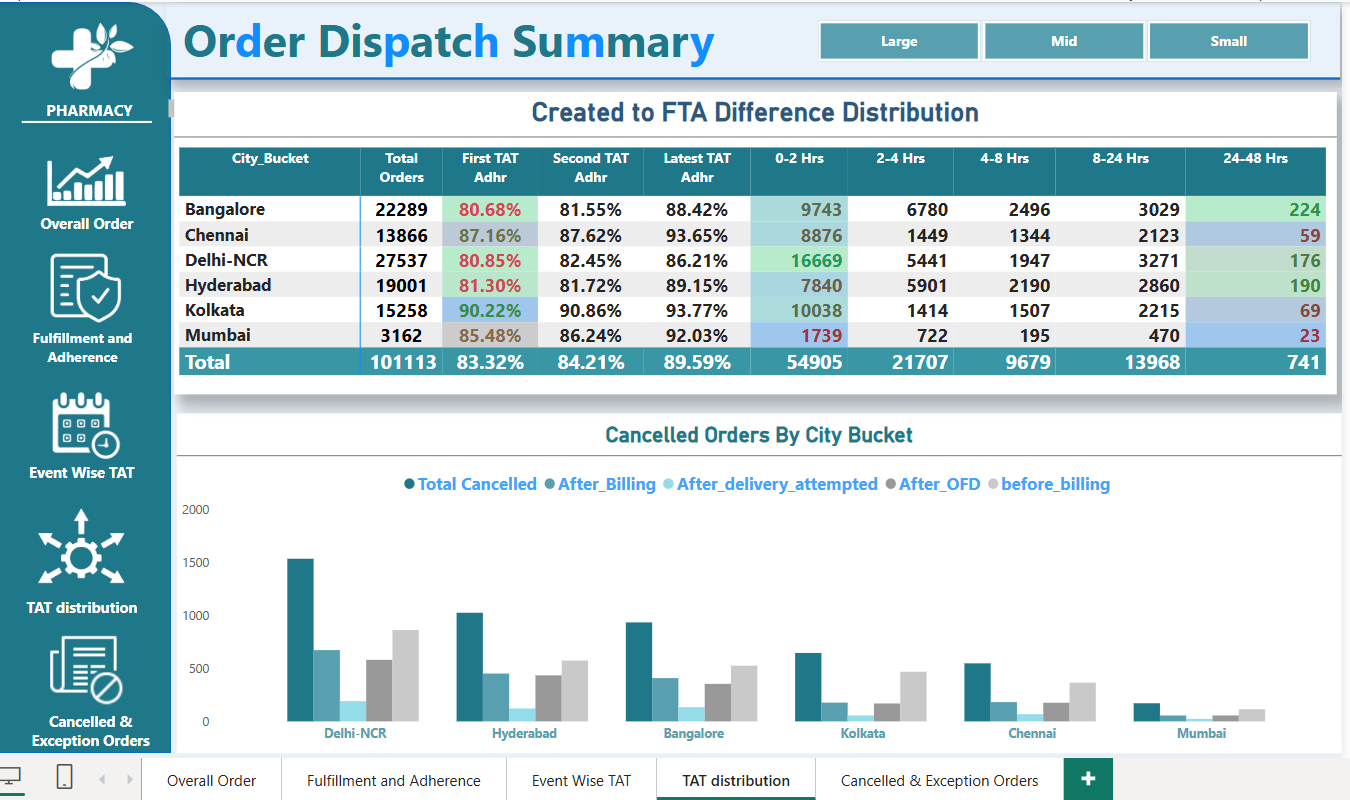

This screenshot's page, from the dashboard's own definition file:
{"tool":"powerbi","page":{"name":"TAT distribution","canvas":[1280,720],"ordinal":3},"visuals":[{"type":"shape","box":[0,0,164.8,715.5],"z":0},{"type":"textbox","box":[160,1.2,1118.6,70.2],"z":1000},{"type":"image","box":[20,127.9,128.6,86.9],"z":2000},{"type":"image","box":[25.2,360.2,114.3,89.3],"z":3000},{"type":"image","box":[31,467.9,96.9,100],"z":4000},{"type":"image","box":[35,596.4,98.8,78.6],"z":5000},{"type":"image","box":[45.2,229.8,77.4,85.7],"z":6000},{"type":"actionButton","box":[15,117.9,135,109.5],"z":7000},{"type":"textbox","box":[31,196.4,110.7,30.2],"z":8000},{"type":"textbox","box":[1.2,305.5,158.3,48.1],"z":9000},{"type":"actionButton","box":[29.3,223.8,110.7,128.6],"z":10000},{"type":"actionButton","box":[11.9,358.8,140.5,106.7],"z":11000},{"type":"textbox","box":[19,433.3,125,33.6],"z":12000},{"type":"textbox","box":[17.9,562.4,123.8,28.6],"z":13000},{"type":"actionButton","box":[13.1,469.1,134.5,128.6],"z":14000},{"type":"textbox","box":[16.7,670.2,142.9,48.8],"z":15000},{"type":"actionButton","box":[9.5,601.4,148.8,118.8],"z":16000},{"type":"shape","box":[22.1,97.6,124.3,33.3],"z":17000},{"type":"slicer","fields":{"Values":["Sheet1.store_type"]},"box":[754.8,10.7,519.1,52.4],"z":18000},{"type":"shape","box":[160.7,63.1,1117.9,19.8],"z":19000},{"type":"clusteredColumnChart","title":"Cancelled Orders By City Bucket","fields":{"Category":["Sheet1.City_Bucket"],"Y":["Sum(Sheet1.isCancelled)","Sum(Sheet1.Canc_after_Billing)","Sum(Sheet1.Canc_after_delivery_attempted)","Sum(Sheet1.Canc_after_OFD)","Sum(Sheet1.Canc_before_billing)"]},"box":[170.2,391.7,1109.5,323.8],"z":21000},{"type":"image","box":[13.1,0,156,98.8],"z":22000},{"type":"textbox","box":[6.7,87.6,167.9,28.6],"z":23000},{"type":"pivotTable","title":"Created to FTA Difference Distribution","fields":{"Values":["CountNonNull(Sheet1.orderid)","Sheet1.FTA%","Sheet1.STA%","Sheet1.LTA%","Sum(Sheet1.Created_to_F_TAT_Diff_0_to_2_hrs)","Sum(Sheet1.Created_to_F_TAT_Diff_2_to_4_hrs)","Sum(Sheet1.four_8hrs)","Sum(Sheet1.8_to_24hr)","Sum(Sheet1.twentyfour_48hrs)"],"Rows":["Sheet1.City_Bucket"]},"box":[167.9,85.7,1107.1,288.1],"z":23001},{"type":"actionButton","box":[0,0,100,40],"z":23002}]}

Visuals, with their boxes on the page's 1280x720 design canvas (x1, y1, x2, y2). These are canvas units, not pixel positions in the 1350x800 screenshot, which may show the page scaled, cropped or inside an application window:
shape: {"left": 0, "top": 0, "right": 165, "bottom": 716}
textbox: {"left": 160, "top": 1, "right": 1279, "bottom": 71}
image: {"left": 20, "top": 128, "right": 149, "bottom": 215}
image: {"left": 25, "top": 360, "right": 140, "bottom": 450}
image: {"left": 31, "top": 468, "right": 128, "bottom": 568}
image: {"left": 35, "top": 596, "right": 134, "bottom": 675}
image: {"left": 45, "top": 230, "right": 123, "bottom": 316}
actionButton: {"left": 15, "top": 118, "right": 150, "bottom": 227}
textbox: {"left": 31, "top": 196, "right": 142, "bottom": 227}
textbox: {"left": 1, "top": 306, "right": 160, "bottom": 354}
actionButton: {"left": 29, "top": 224, "right": 140, "bottom": 352}
actionButton: {"left": 12, "top": 359, "right": 152, "bottom": 466}
textbox: {"left": 19, "top": 433, "right": 144, "bottom": 467}
textbox: {"left": 18, "top": 562, "right": 142, "bottom": 591}
actionButton: {"left": 13, "top": 469, "right": 148, "bottom": 598}
textbox: {"left": 17, "top": 670, "right": 160, "bottom": 719}
actionButton: {"left": 10, "top": 601, "right": 158, "bottom": 720}
shape: {"left": 22, "top": 98, "right": 146, "bottom": 131}
slicer - Sheet1.store_type: {"left": 755, "top": 11, "right": 1274, "bottom": 63}
shape: {"left": 161, "top": 63, "right": 1279, "bottom": 83}
"Cancelled Orders By City Bucket" clusteredColumnChart: {"left": 170, "top": 392, "right": 1280, "bottom": 716}
image: {"left": 13, "top": 0, "right": 169, "bottom": 99}
textbox: {"left": 7, "top": 88, "right": 175, "bottom": 116}
"Created to FTA Difference Distribution" pivotTable: {"left": 168, "top": 86, "right": 1275, "bottom": 374}
actionButton: {"left": 0, "top": 0, "right": 100, "bottom": 40}
